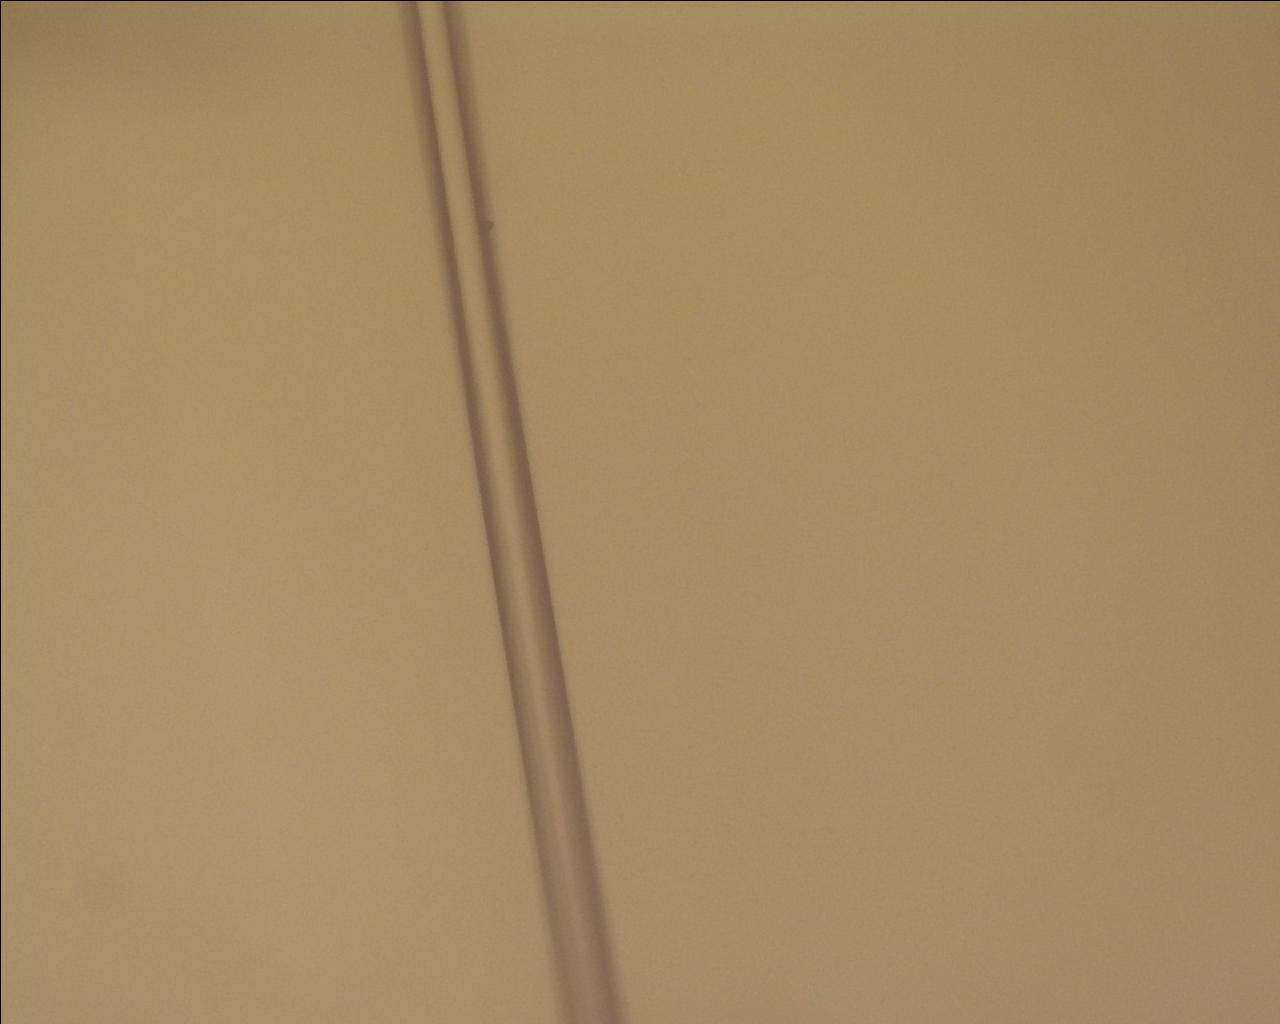fiber: (729, 254, 1178, 481), (90, 0, 212, 481), (729, 757, 1280, 781)
